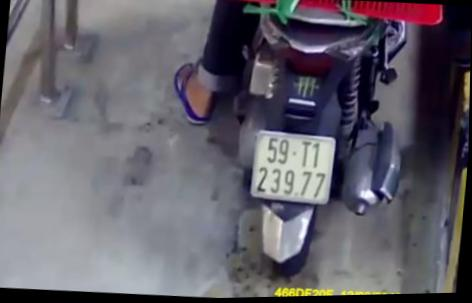LP: (249, 127, 338, 208)
